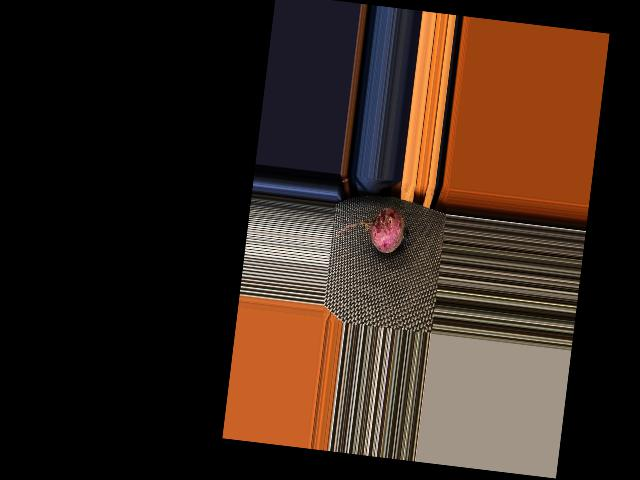beet: (336, 201, 412, 254)
